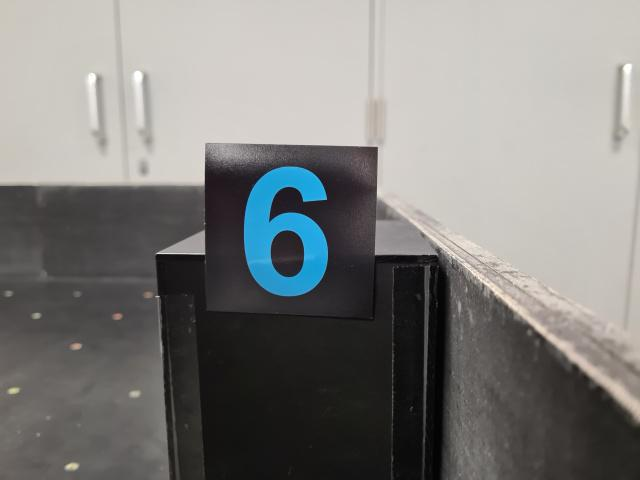six: (205, 142, 377, 322)
